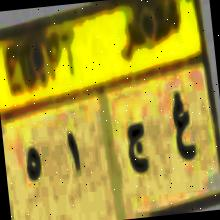1: (64, 126, 84, 180)
5: (21, 140, 43, 189)
ghayn: (167, 83, 201, 172)
jeem: (123, 121, 150, 179)
